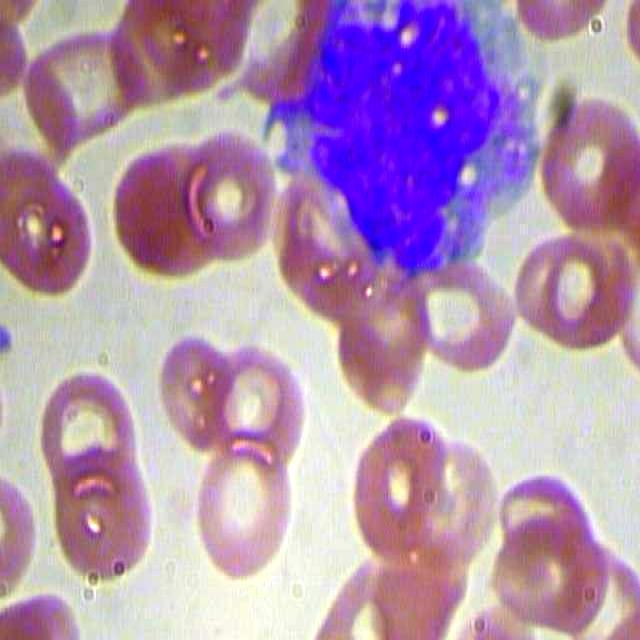RBC: (20, 16, 149, 153), (536, 89, 640, 244), (349, 408, 453, 563), (505, 229, 633, 352), (1, 149, 98, 303), (487, 515, 615, 629), (46, 447, 152, 584), (193, 440, 299, 577), (206, 336, 312, 473), (176, 124, 277, 256), (41, 362, 137, 494), (415, 255, 517, 377), (156, 335, 241, 453)
WBC: (262, 2, 543, 290)
